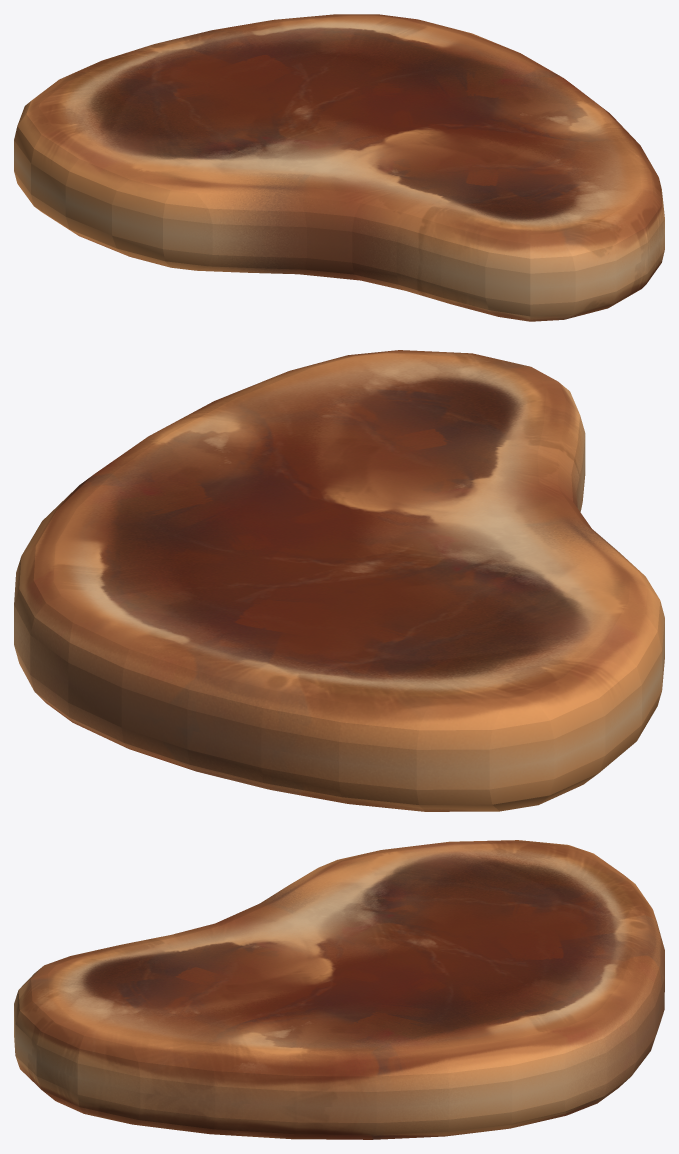
The model's file is meat.fbx.
3 renders of one model, top to bottom at view 1: azimuth 30°, elevation 25°; view 2: azimuth 150°, elevation 25°; view 3: azimuth 270°, elevation 25°, orthographic. The views are drawn at different scales.
Parts seen in each view (by area): view 1: Meat; view 2: Meat; view 3: Meat.
Boxes of the visible parts, left/top/right/bottom form: Meat: left=14, top=14, right=664, bottom=321; Meat: left=14, top=350, right=664, bottom=811; Meat: left=14, top=840, right=664, bottom=1139.
Bounding box in the file's own units: 177 × 30 × 207.
